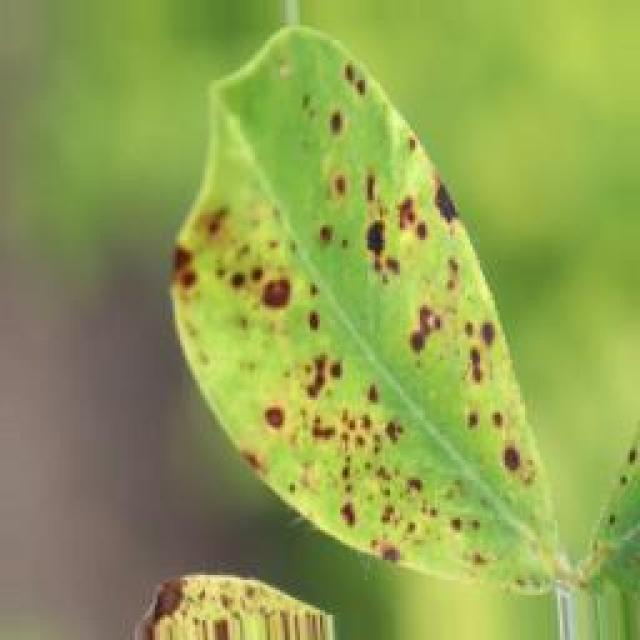Yellowish: (150, 23, 579, 602)
